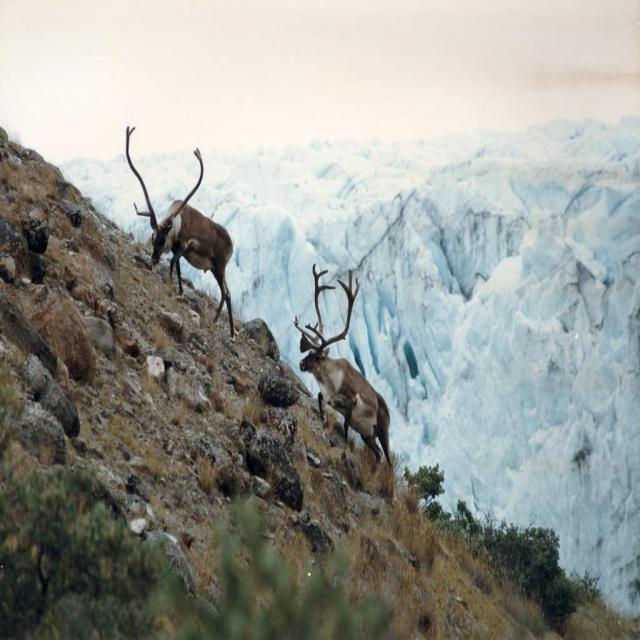Deer: (293, 262, 397, 508), (126, 125, 235, 338)
